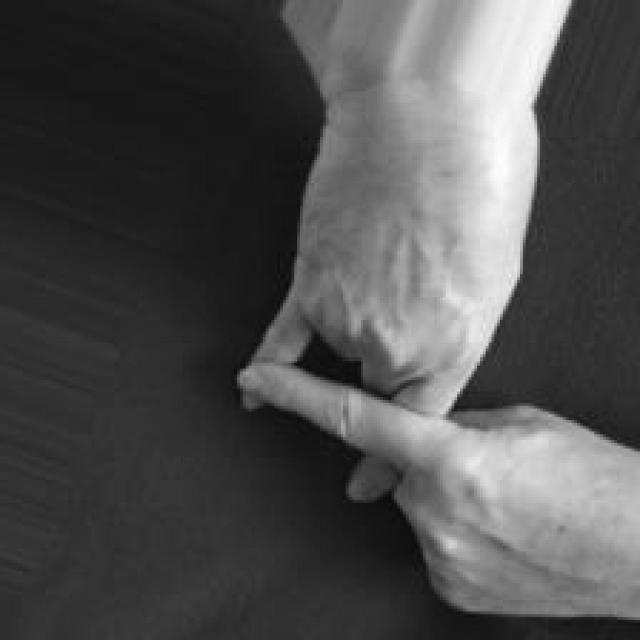H: (237, 117, 640, 623)
